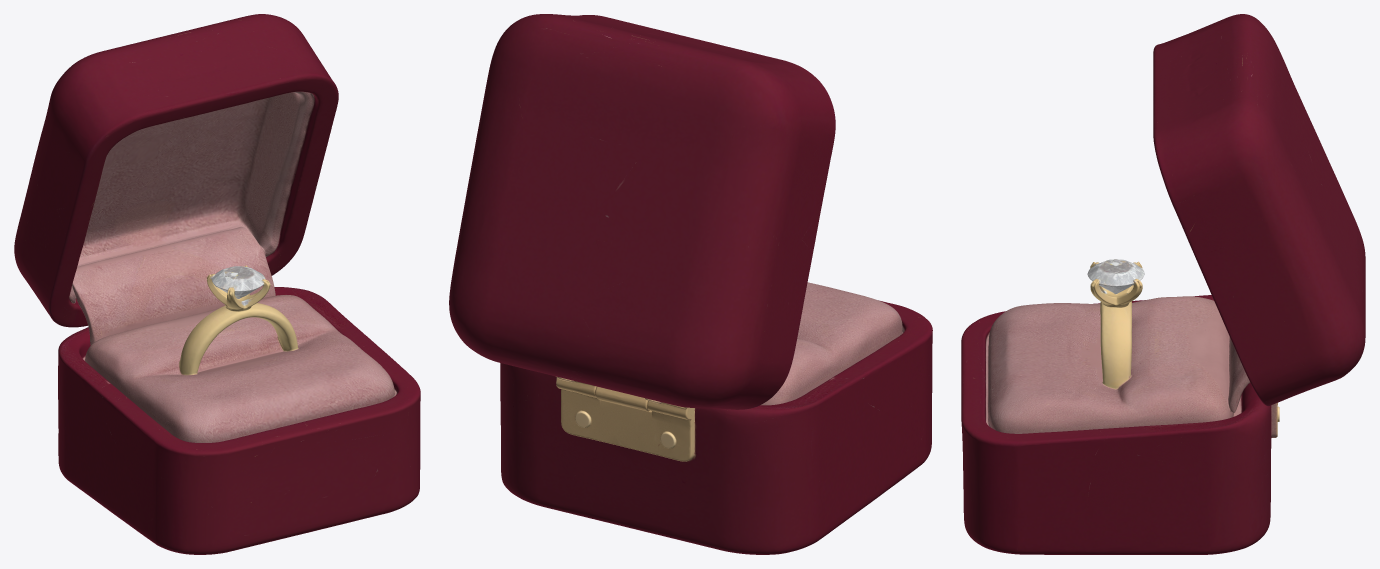
File: Ring.glb
The picture shows the model from 3 angles, left to right: view 1: azimuth 30°, elevation 25°; view 2: azimuth 150°, elevation 25°; view 3: azimuth 270°, elevation 25°; orthographic projection. The views are drawn at different scales.
Bounding box in the file's own units: 1.28 × 1.9 × 1.61.
Materials: 1 (1 with a texture image).
